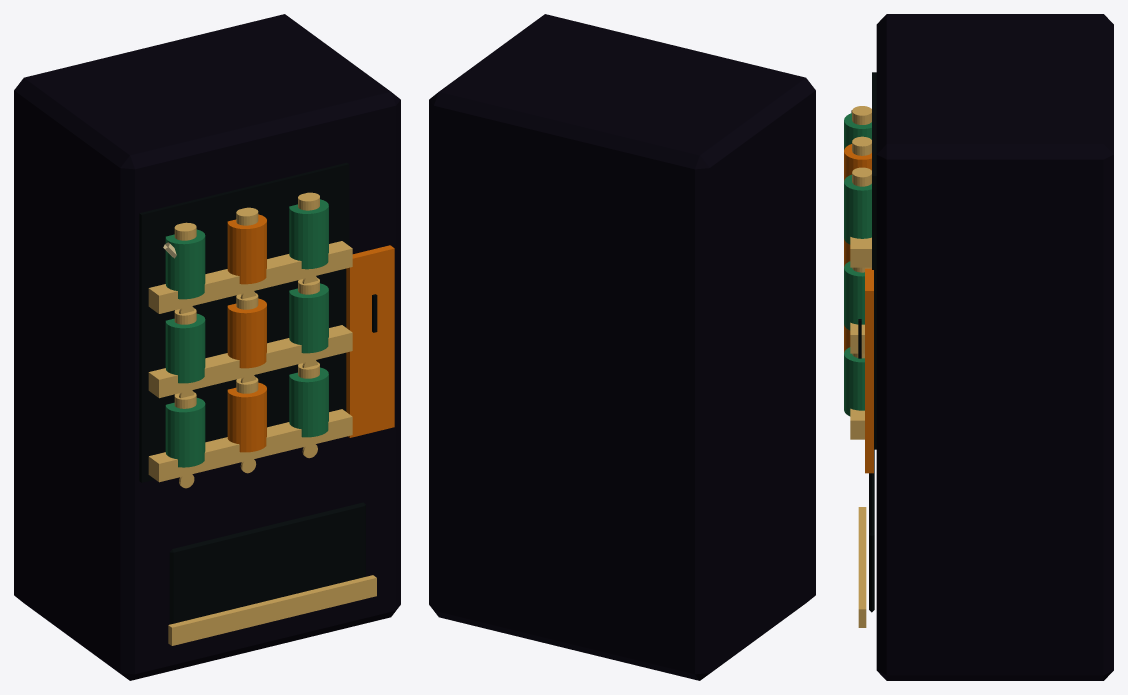
Rendered from mall_r5_density_vending.fbx.
The picture shows the model from 3 angles, left to right: view 1: azimuth 30°, elevation 25°; view 2: azimuth 150°, elevation 25°; view 3: azimuth 270°, elevation 25°; orthographic projection. The views are drawn at different scales.
Visible parts, largest first — view 1: Part_-1, Part_3, Part_0, Part_2, Part_1; view 2: Part_-1; view 3: Part_-1, Part_3, Part_1, Part_2.
Part boxes in pixels (x1=…): Part_-1: x1=14, y1=14, x2=400, y2=680; Part_3: x1=135, y1=105, x2=395, y2=609; Part_0: x1=135, y1=169, x2=395, y2=674; Part_2: x1=139, y1=165, x2=351, y2=471; Part_1: x1=161, y1=267, x2=394, y2=550; Part_-1: x1=429, y1=14, x2=815, y2=680; Part_-1: x1=858, y1=14, x2=1113, y2=680; Part_3: x1=844, y1=78, x2=876, y2=468; Part_1: x1=844, y1=190, x2=876, y2=535; Part_2: x1=844, y1=72, x2=876, y2=266.
Bounding box in the file's own units: 1.9 × 3.4 × 1.55.
